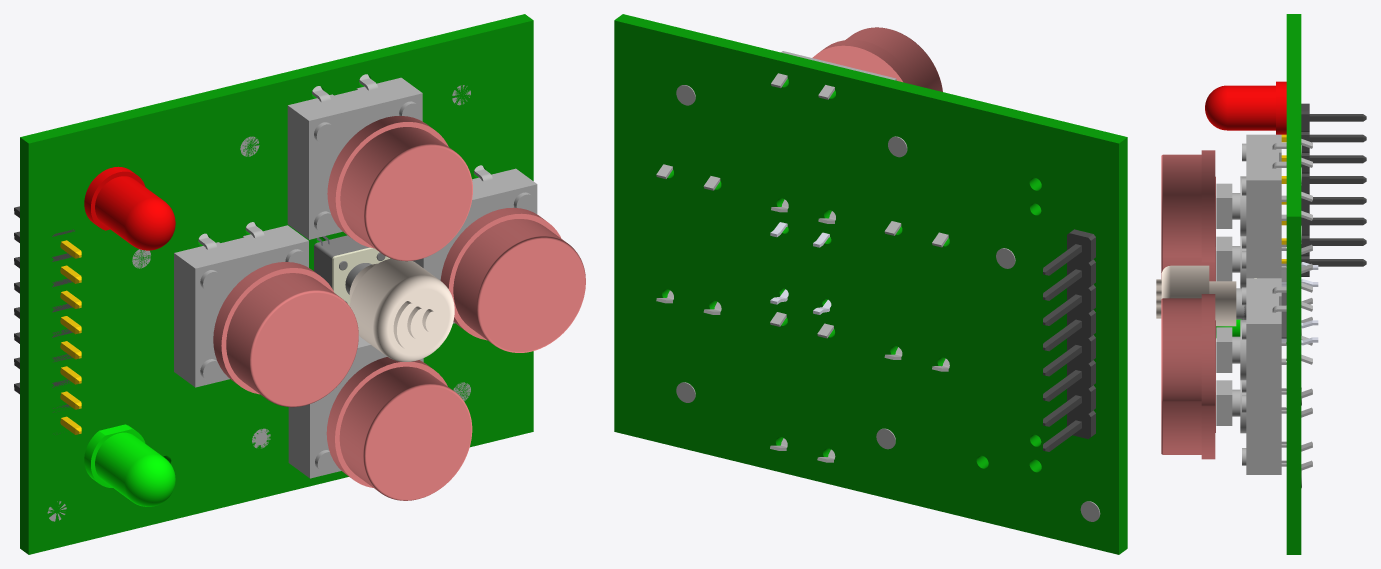
File: buttons.glb
3 views of the same model, side by side, from view 1: azimuth 30°, elevation 25°; view 2: azimuth 150°, elevation 25°; view 3: azimuth 270°, elevation 25° (orthographic). The views are drawn at different scales.
Parts seen in each view (by area): view 1: Buttons v2_23.2, button (×4), Buttons v2_33.2, Buttons v2_29.2, mid cap, Buttons v2_26.2, Buttons v2_22.2, Buttons v2_8.2, Buttons v2_17.2, Buttons v2_12.2, Buttons v2_13.2, Buttons v2_34.2; view 2: Buttons v2_23.2, Buttons v2_12.2, button, Buttons v2_33.2, Buttons v2_29.2; view 3: button (×4), Buttons v2_23.2, Buttons v2_17.2, Buttons v2_33.2, Buttons v2_12.2, Buttons v2_26.2, Buttons v2_8.2, mid cap, Buttons v2_29.2, Buttons v2_19.2, Buttons v2_31.2, Buttons v2_9.2 (+2 smaller).
Boxes of the visible parts, box(x1,y1,x2,y2) form: Buttons v2_23.2: box(20, 14, 533, 554); button (×4): box(213, 116, 585, 500); Buttons v2_33.2: box(287, 74, 422, 239); Buttons v2_29.2: box(174, 222, 308, 387); mid cap: box(349, 258, 454, 361); Buttons v2_26.2: box(84, 166, 175, 250); Buttons v2_22.2: box(84, 424, 175, 506); Buttons v2_8.2: box(288, 335, 423, 478); Buttons v2_17.2: box(412, 165, 537, 323); Buttons v2_12.2: box(14, 206, 74, 434); Buttons v2_13.2: box(314, 235, 369, 287); Buttons v2_34.2: box(332, 247, 390, 305); Buttons v2_23.2: box(614, 14, 1127, 554); Buttons v2_12.2: box(1043, 229, 1095, 451); button: box(812, 27, 942, 91); Buttons v2_33.2: box(771, 51, 896, 223); Buttons v2_29.2: box(884, 221, 949, 371); button (×4): box(1161, 150, 1215, 459); Buttons v2_23.2: box(1286, 14, 1301, 554); Buttons v2_17.2: box(1232, 278, 1312, 421); Buttons v2_33.2: box(1232, 134, 1312, 277); Buttons v2_12.2: box(1301, 103, 1366, 276); Buttons v2_26.2: box(1205, 81, 1286, 134); Buttons v2_8.2: box(1232, 335, 1312, 474); mid cap: box(1156, 265, 1236, 326); Buttons v2_29.2: box(1232, 192, 1312, 322); Buttons v2_19.2: box(1216, 380, 1232, 425); Buttons v2_31.2: box(1216, 327, 1232, 372); Buttons v2_9.2: box(1216, 183, 1232, 228).
Size of the model in its own units: 0.0533 by 0.0415 by 0.0234.
